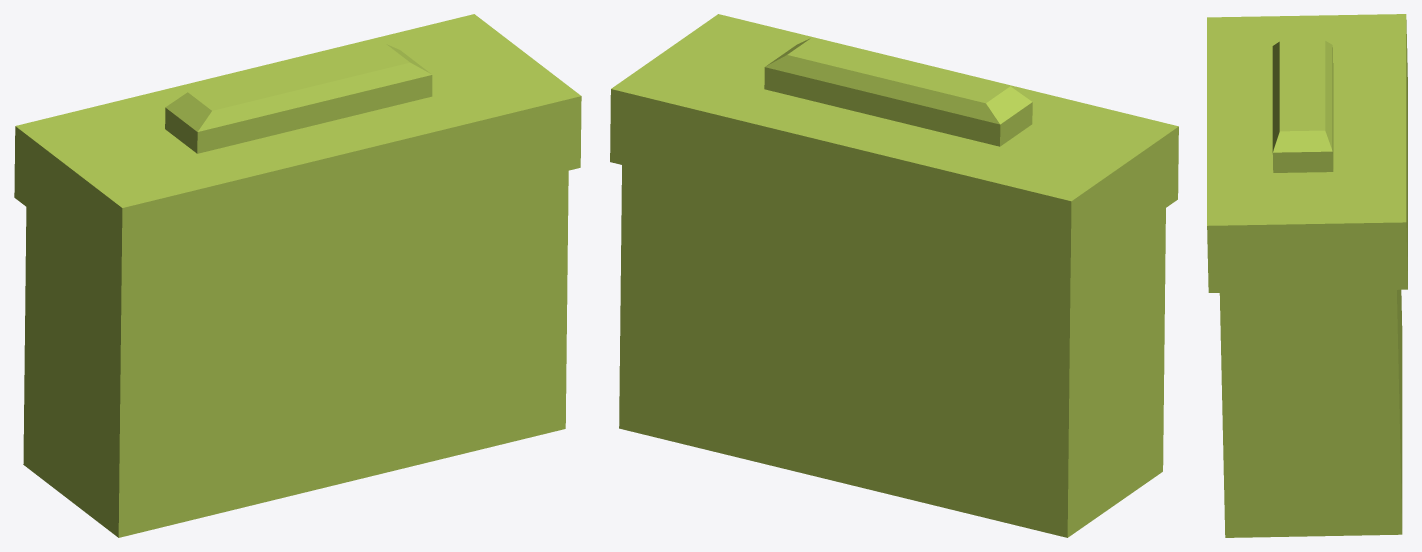
The model's file is ammobox.fbx.
The picture shows the model from 3 angles, left to right: view 1: azimuth 30°, elevation 25°; view 2: azimuth 150°, elevation 25°; view 3: azimuth 270°, elevation 25°; orthographic projection. The views are drawn at different scales.
Parts seen in each view (by area): view 1: Cube; view 2: Cube; view 3: Cube.
Part boxes in pixels (box(x1,y1,x2,y2)): Cube: box(14, 14, 581, 537); Cube: box(610, 14, 1178, 537); Cube: box(1207, 14, 1407, 537).
Bounding box in the file's own units: 205 × 161 × 83.65.
